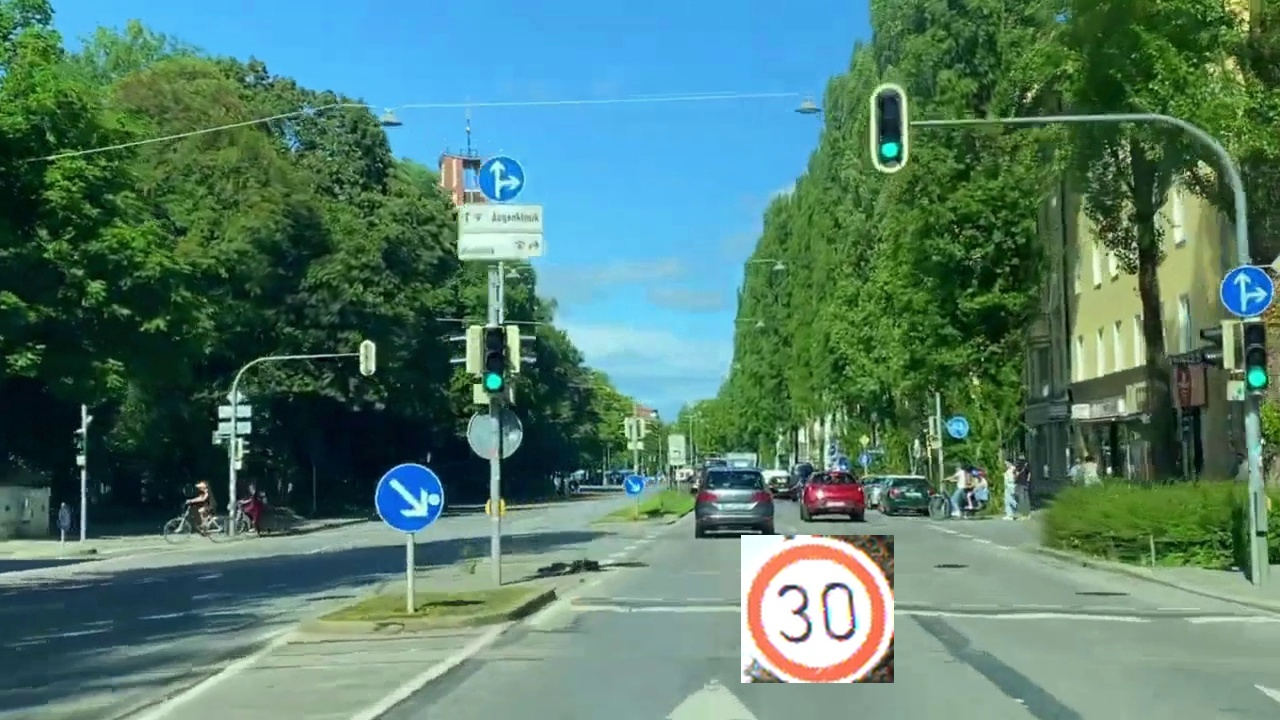Speed 30: (741, 535, 894, 683)
